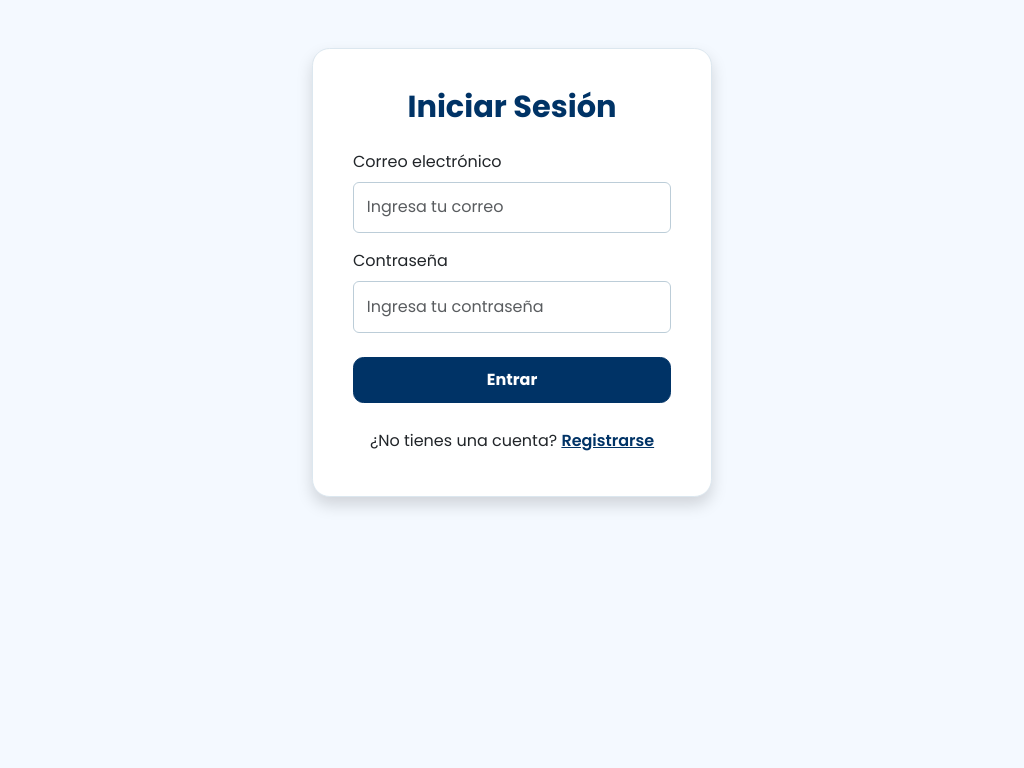
it: Panel completo de administración › permite ingresar con una cuenta promovida y su contraseña temporal
The image size is (1024, 768).
Type "paciente@gmail.com" into the field labelled "Correo electrónico". click: (512, 207)
box: top-left (353, 182), bottom-right (671, 233)
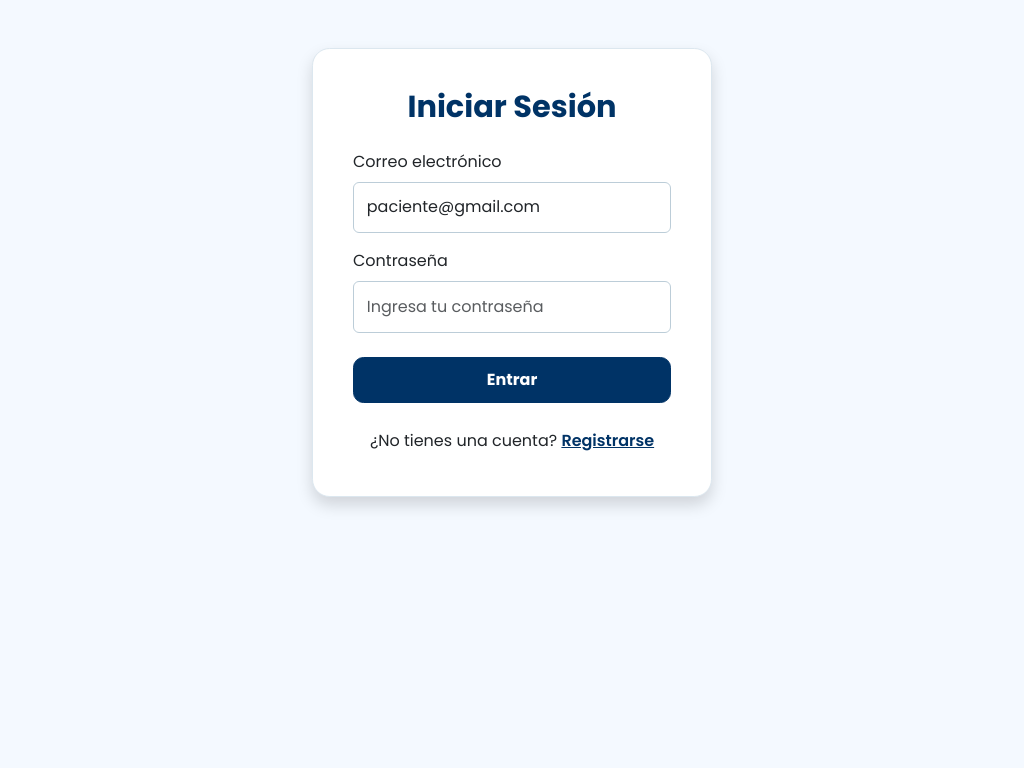
Type "paciente123" into the password field labelled "Contraseña". click: (512, 307)
box: top-left (353, 281), bottom-right (671, 333)
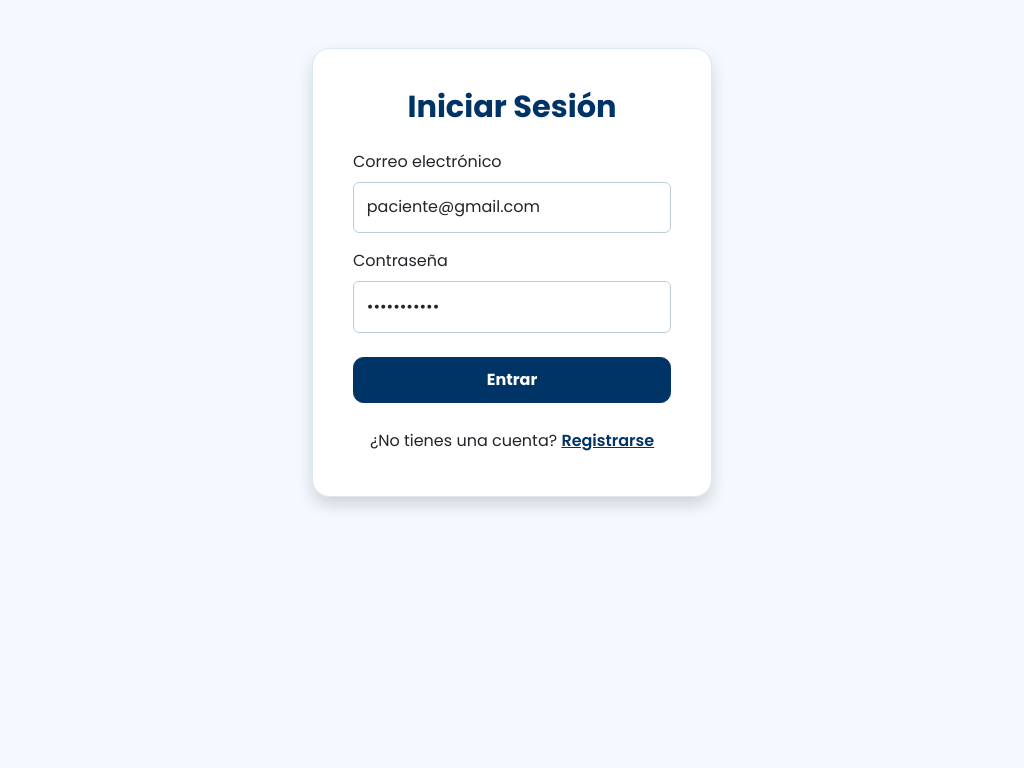
Click the button "Entrar". click: (512, 380)
box: top-left (353, 357), bottom-right (671, 404)
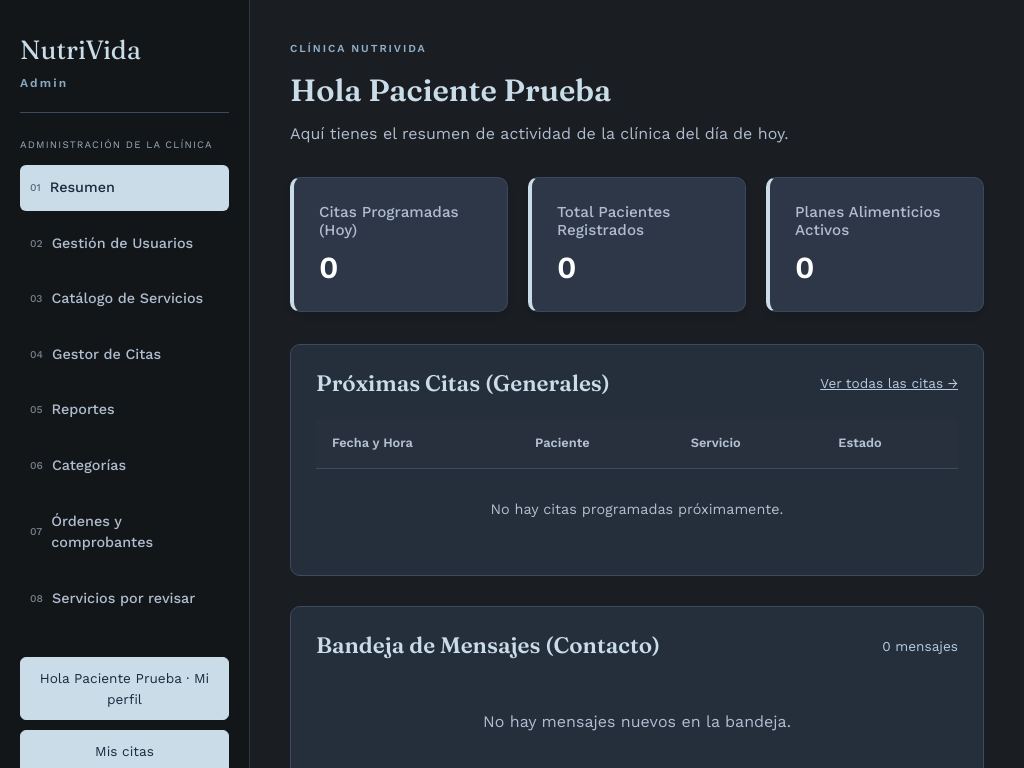
Expected: the heading "Hola Paciente Prueba" is shown, top-left (290, 71), bottom-right (611, 109)
